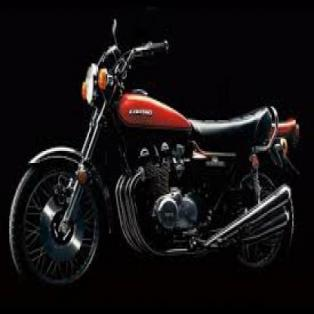Motocicleta: (5, 18, 307, 292)
